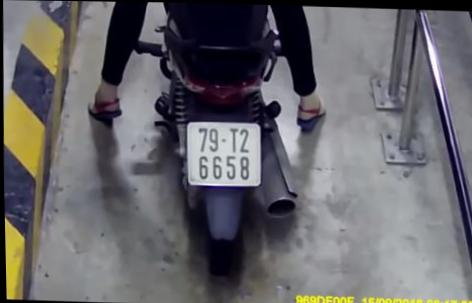LP: (186, 121, 261, 185)
